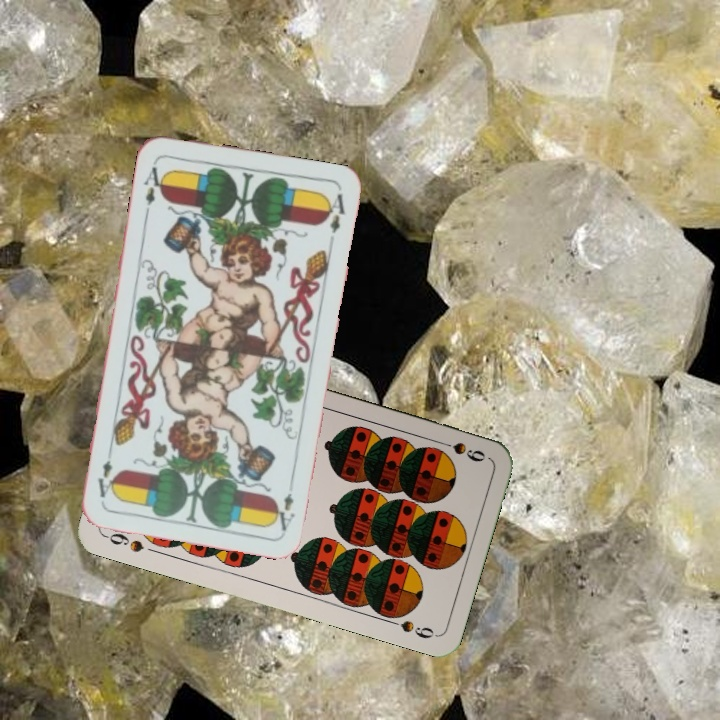EA: (269, 475, 297, 533), (139, 158, 169, 208)
S9: (432, 436, 488, 465), (100, 529, 147, 555)
